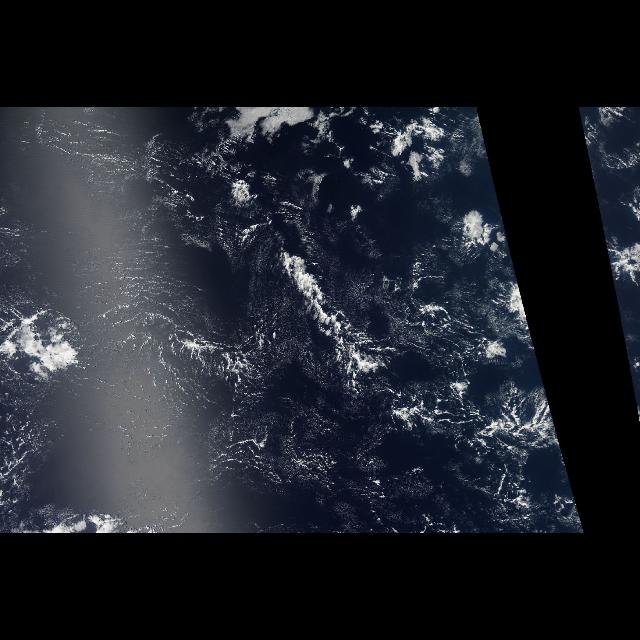Fish: (244, 230, 406, 400)
